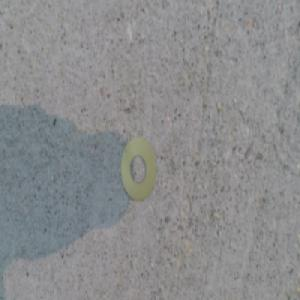Washer: (119, 134, 156, 201)
